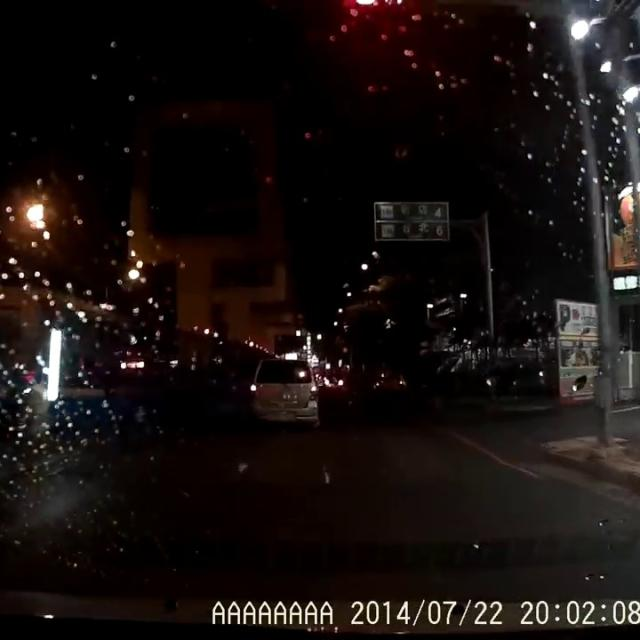Car: (247, 354, 321, 427)
